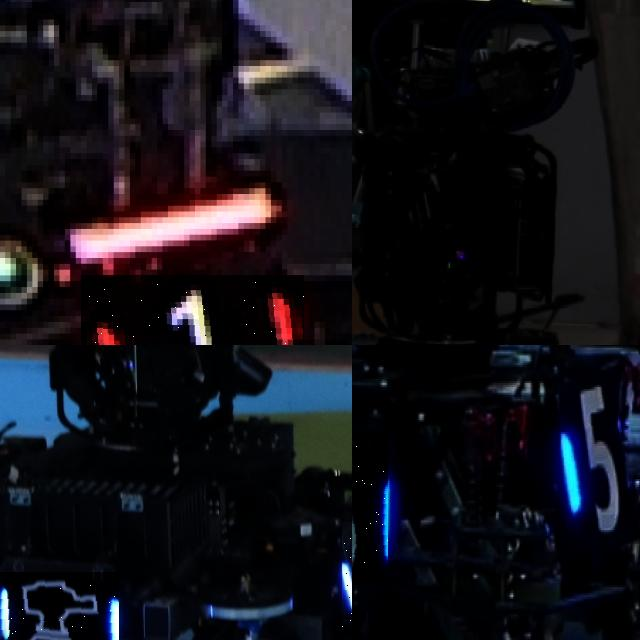B5: (352, 432, 388, 585)
Bs: (0, 572, 118, 640)
R1: (81, 275, 303, 345)
